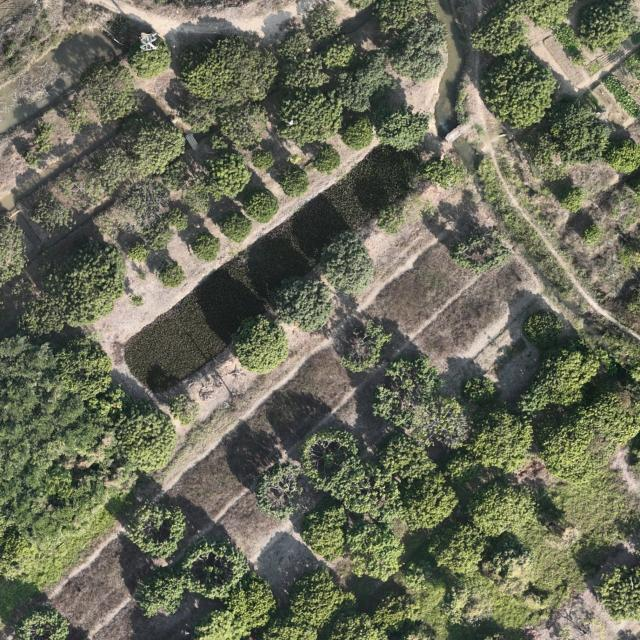Tree: (539, 391, 640, 484), (374, 353, 469, 449), (376, 431, 461, 532), (178, 33, 279, 109), (43, 242, 127, 328), (480, 54, 560, 130), (516, 347, 602, 415), (190, 573, 274, 640), (179, 532, 251, 602), (114, 398, 176, 476), (469, 406, 534, 477), (465, 475, 538, 538), (299, 426, 361, 497), (549, 96, 610, 165), (119, 115, 187, 175), (387, 18, 449, 83), (274, 89, 344, 146), (337, 48, 397, 113), (265, 276, 334, 332), (228, 313, 290, 375), (346, 520, 408, 582), (318, 230, 376, 296), (122, 501, 188, 559), (286, 564, 344, 630), (79, 61, 136, 124), (427, 520, 488, 574), (467, 4, 527, 57), (579, 0, 640, 52), (593, 560, 640, 627), (117, 175, 170, 234), (254, 460, 303, 522), (339, 318, 394, 372), (450, 229, 513, 276), (301, 503, 349, 563), (376, 102, 432, 153), (135, 565, 185, 618), (217, 101, 269, 150), (0, 214, 30, 289), (375, 0, 441, 34), (207, 150, 252, 198), (15, 601, 70, 640), (126, 35, 172, 80), (508, 0, 577, 29), (16, 296, 64, 336), (283, 52, 330, 92), (522, 308, 564, 352), (30, 198, 78, 233), (24, 120, 57, 168), (243, 186, 279, 225), (307, 2, 341, 43), (177, 100, 218, 134), (276, 28, 314, 64), (604, 138, 640, 174), (340, 114, 374, 151), (322, 34, 356, 70), (218, 210, 252, 243), (168, 393, 200, 425), (461, 376, 497, 403), (68, 94, 92, 134), (280, 166, 310, 198), (190, 231, 220, 263), (313, 143, 342, 176), (157, 260, 186, 288), (559, 187, 589, 212), (250, 150, 276, 171), (581, 223, 602, 246)
